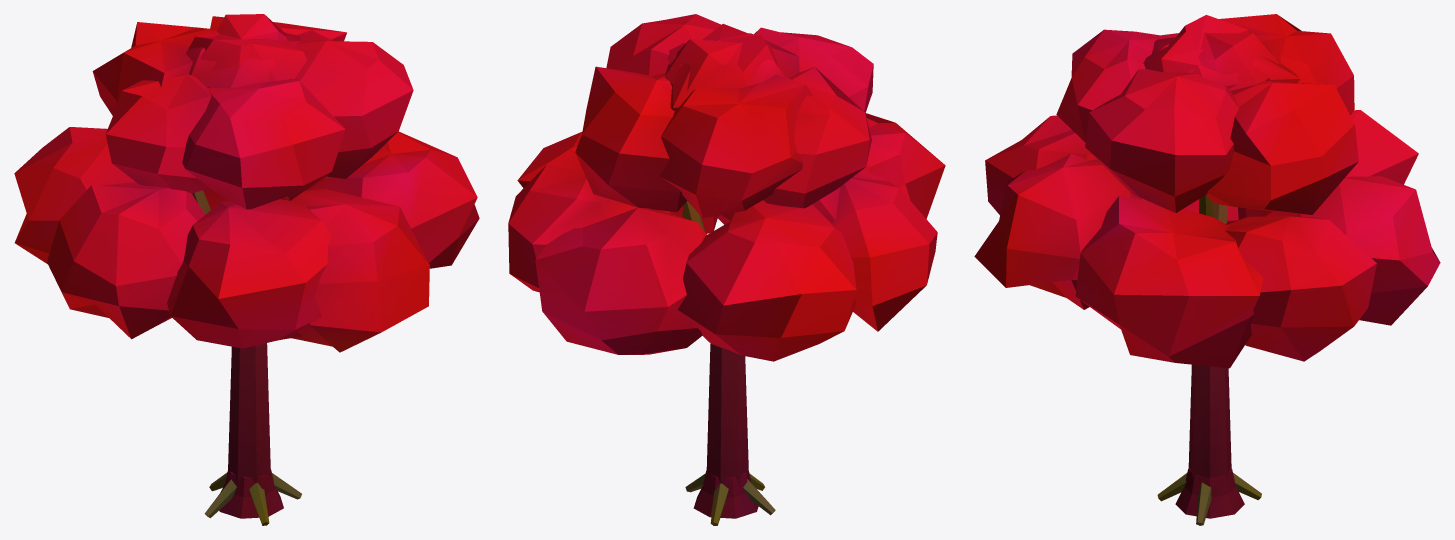
File: Tree_Maple_Autumn_01.fbx
3 renders of one model, left to right at view 1: azimuth 30°, elevation 25°; view 2: azimuth 150°, elevation 25°; view 3: azimuth 270°, elevation 25°, orthographic.
Visible parts, largest first — view 1: Tree_Maple_Autumn_01; view 2: Tree_Maple_Autumn_01; view 3: Tree_Maple_Autumn_01.
Part boxes in pixels (x1,y1,x2,y2): Tree_Maple_Autumn_01: (14,14,479,525); Tree_Maple_Autumn_01: (508,14,945,525); Tree_Maple_Autumn_01: (974,14,1440,525).
Bounding box in the file's own units: 6.18 × 6.97 × 6.24.
